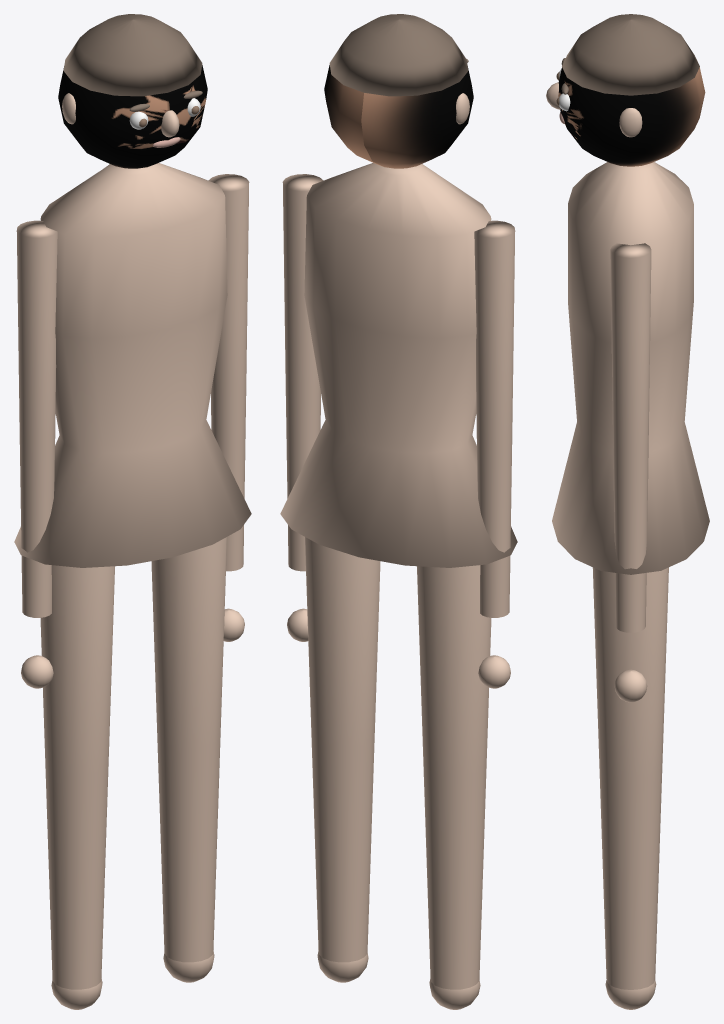
File: out_avatar.glb
The picture shows the model from 3 angles, left to right: view 1: azimuth 30°, elevation 25°; view 2: azimuth 150°, elevation 25°; view 3: azimuth 270°, elevation 25°; orthographic projection.
Visible parts, largest first — view 1: avatar; view 2: avatar; view 3: avatar.
Boxes of the visible parts, left/top/right/bottom form: avatar: left=14, top=14, right=251, bottom=1009; avatar: left=280, top=14, right=517, bottom=1009; avatar: left=546, top=14, right=709, bottom=1009.
Size of the model in its own units: 0.3899 by 1.6 by 0.247.
Materials: 6 (1 with a texture image).
